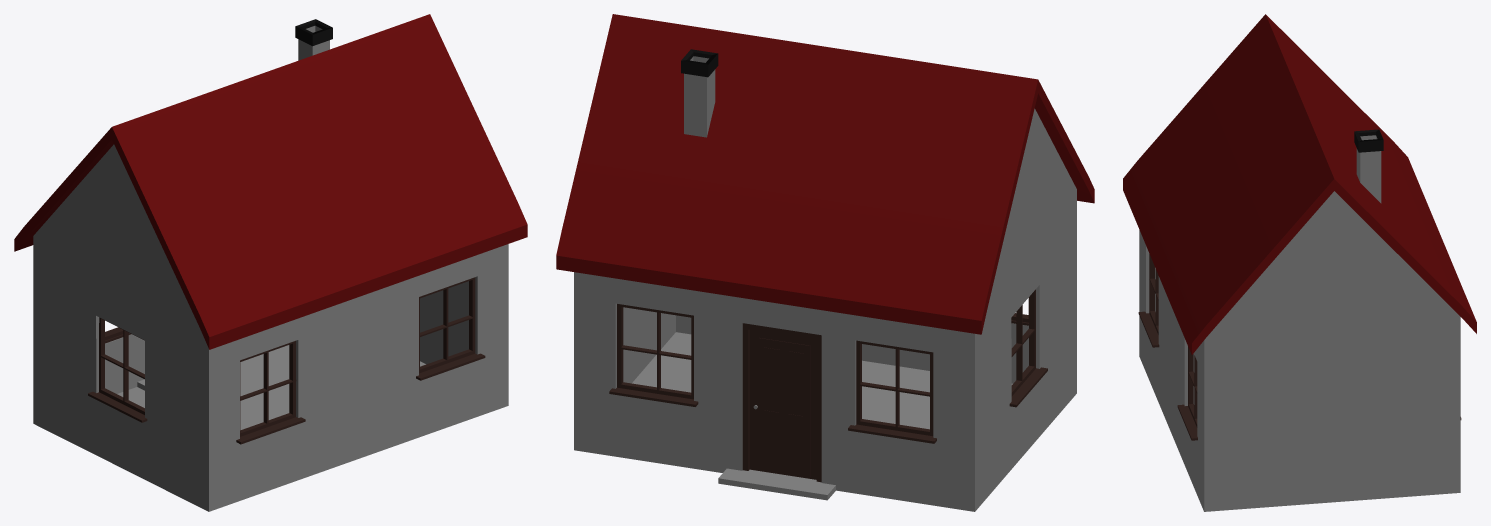
File: House.fbx
3 views of the same model, side by side, from view 1: azimuth 30°, elevation 25°; view 2: azimuth 150°, elevation 25°; view 3: azimuth 270°, elevation 25° (orthographic). The views are drawn at different scales.
Visible parts, largest first — view 1: node_id77 (×16); view 2: node_id77 (×31); view 3: node_id77 (×20).
Part boxes in pixels (x1,y1,x2,y2): node_id77 (×16): (14,14,527,511); node_id77 (×31): (556,14,1094,511); node_id77 (×20): (1123,14,1476,511).
Bounding box in the file's own units: 0.512 × 0.4264 × 0.4113.
